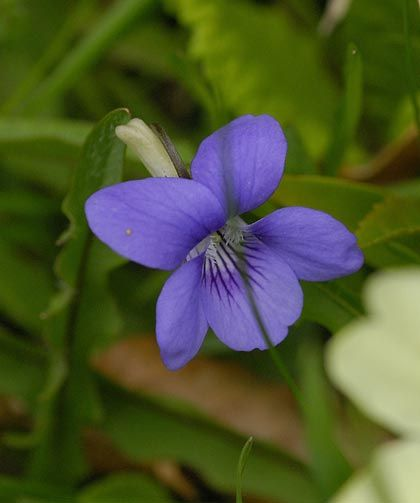violet: (78, 115, 363, 364)
